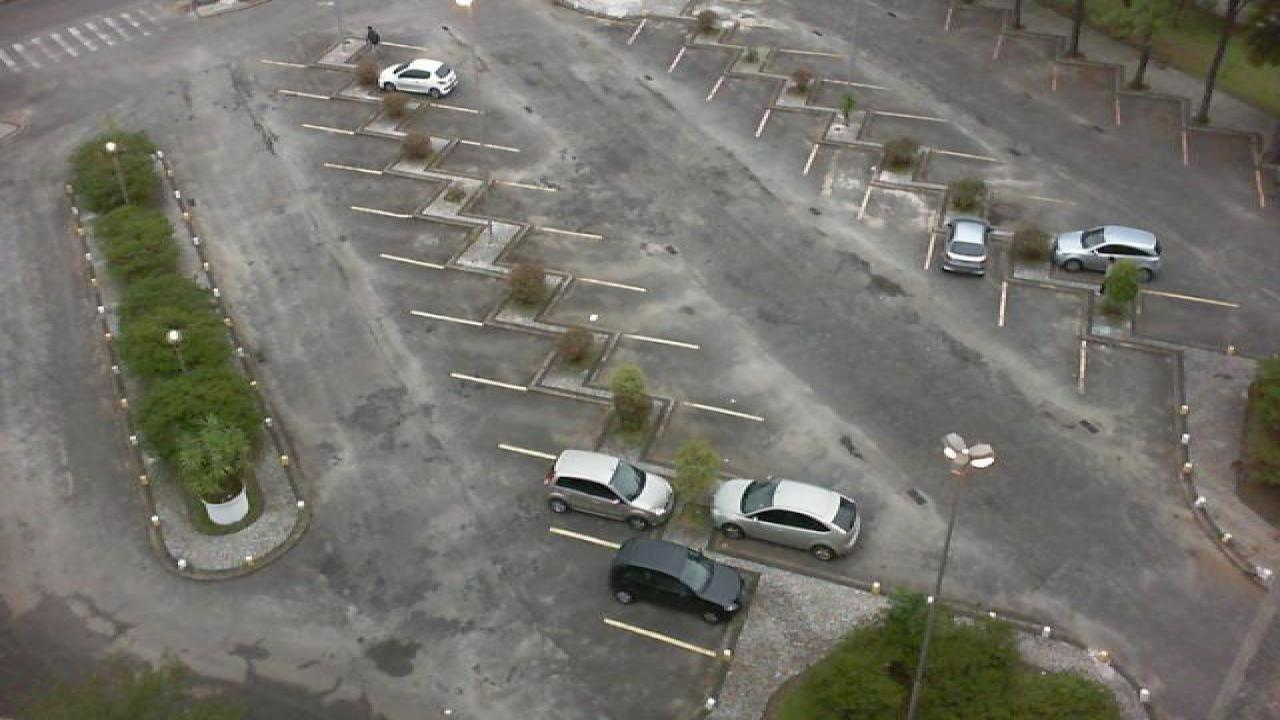Car: (708, 476, 862, 560), (606, 536, 748, 626), (544, 449, 674, 531), (1052, 225, 1162, 277), (376, 57, 460, 98), (938, 216, 992, 277)
